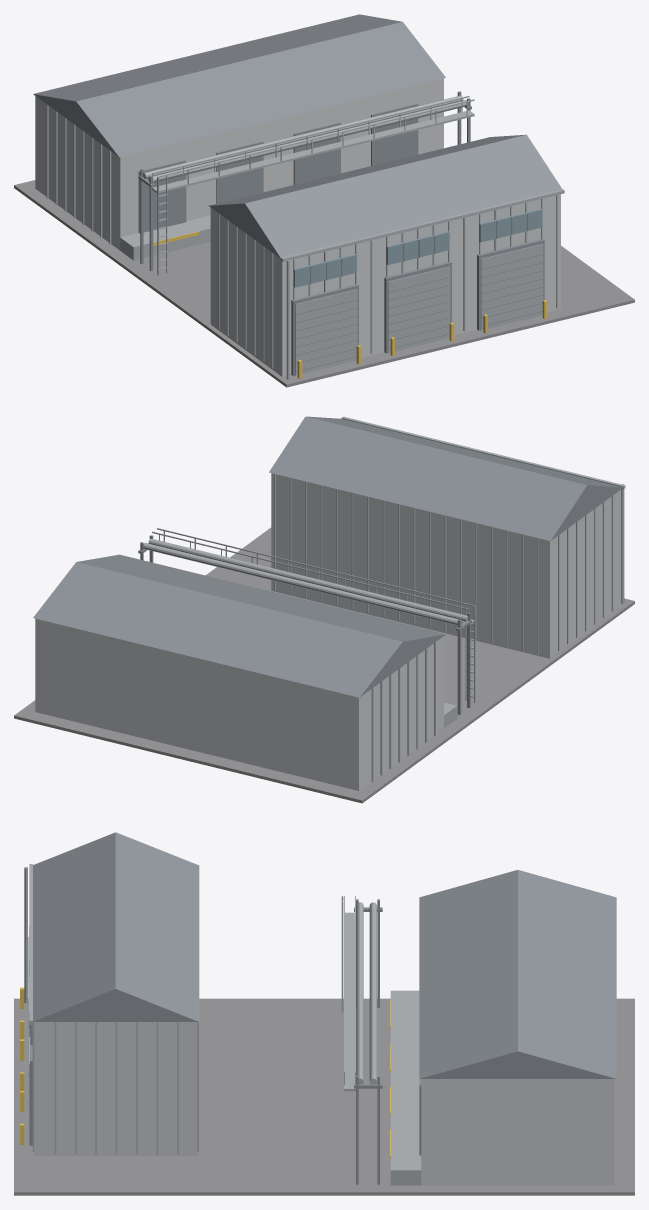
Rendered from industrial_3x4.glb.
3 renders of one model, top to bottom at view 1: azimuth 30°, elevation 25°; view 2: azimuth 150°, elevation 25°; view 3: azimuth 270°, elevation 25°, orthographic. The views are drawn at different scales.
Visible parts, largest first — view 1: industrial_3x4_yard; view 2: industrial_3x4_yard; view 3: industrial_3x4_yard.
Part boxes in pixels (x1=…): industrial_3x4_yard: x1=14, y1=14, x2=634, y2=387; industrial_3x4_yard: x1=14, y1=416, x2=634, y2=803; industrial_3x4_yard: x1=14, y1=832, x2=634, y2=1195.
Size of the model in its own units: 22.5 by 9.3 by 30.5.
